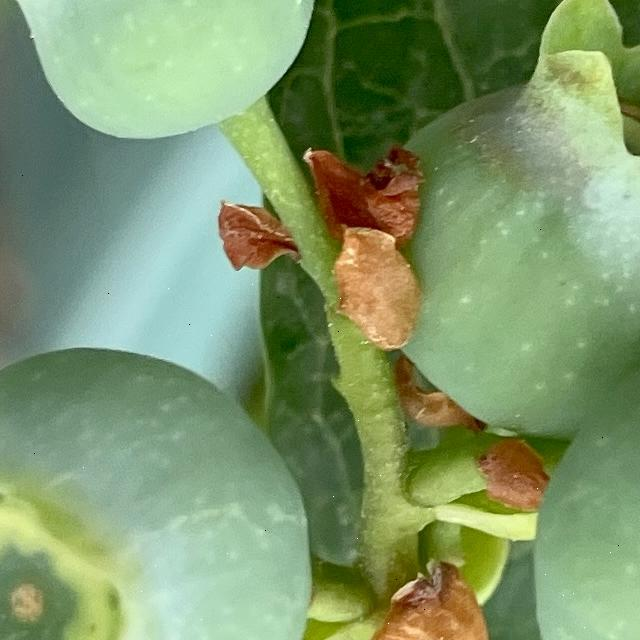Blueberries: (0, 347, 318, 640)
